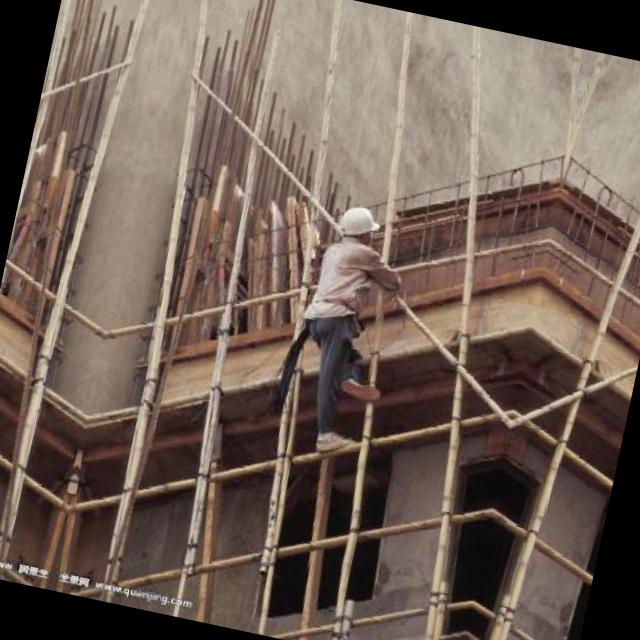helmet: (332, 200, 382, 254)
